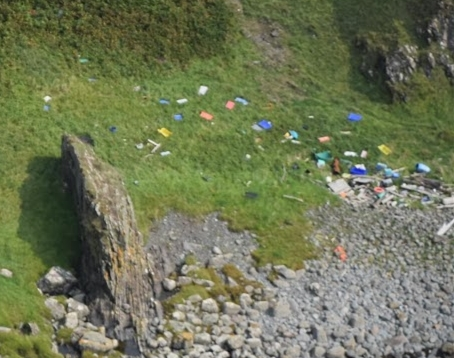scattered_barrel: (101, 76, 253, 162), (247, 101, 367, 148), (34, 53, 104, 116)
together_barrel: (301, 142, 451, 206)
white_in_green: (318, 232, 367, 275), (228, 175, 276, 216)
